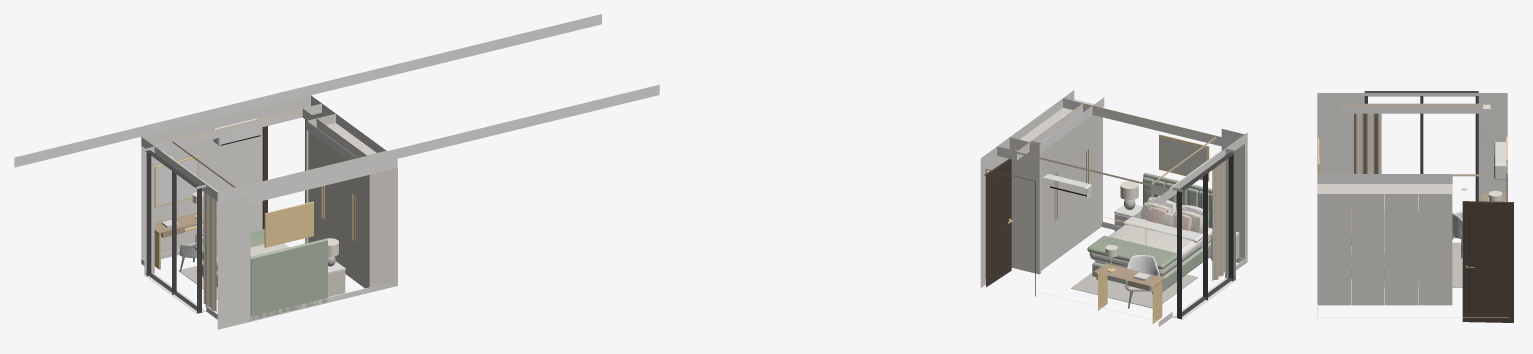
File: ROOM3.glb
The picture shows the model from 3 angles, left to right: view 1: azimuth 30°, elevation 25°; view 2: azimuth 150°, elevation 25°; view 3: azimuth 270°, elevation 25°; orthographic projection. The views are drawn at different scales.
Parts seen in each view (by area): view 1: WEB_ROOM3; view 2: WEB_ROOM3; view 3: WEB_ROOM3.
Boxes of the visible parts, box(x1,y1,x2,y2) form: WEB_ROOM3: box(14, 14, 659, 329); WEB_ROOM3: box(980, 90, 1247, 326); WEB_ROOM3: box(1317, 91, 1513, 322).
Bounding box in the file's own units: 12.09 × 2.9 × 3.27.
